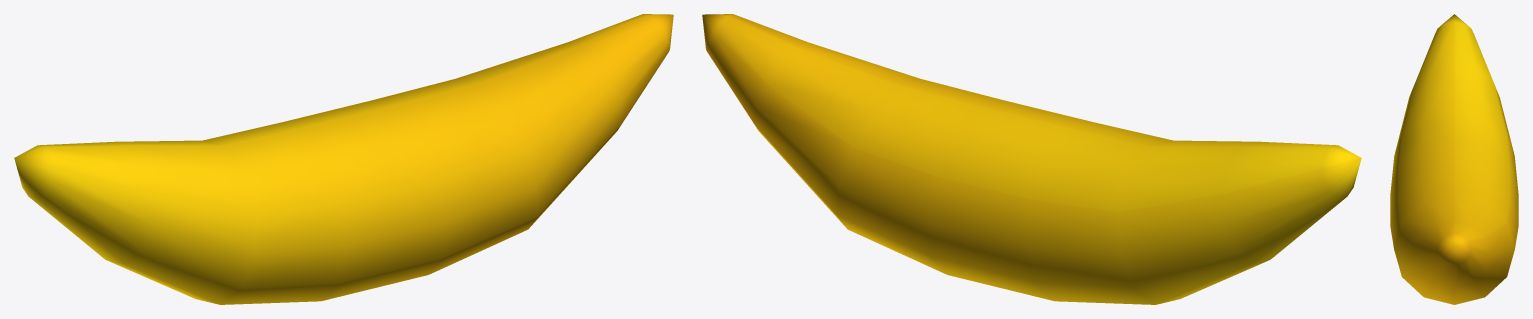
The model's file is Banana_Slice_01.glb.
3 renders of one model, left to right at view 1: azimuth 30°, elevation 25°; view 2: azimuth 150°, elevation 25°; view 3: azimuth 270°, elevation 25°, orthographic. The views are drawn at different scales.
Visible parts, largest first — view 1: Banana_Slice_01; view 2: Banana_Slice_01; view 3: Banana_Slice_01.
Boxes of the visible parts, <box> form: Banana_Slice_01: <box>14,14,673,304</box>; Banana_Slice_01: <box>702,14,1361,304</box>; Banana_Slice_01: <box>1390,14,1518,304</box>.
Size of the model in its own units: 0.4804 by 0.1457 by 0.1184.
1 material, 1 textured.
